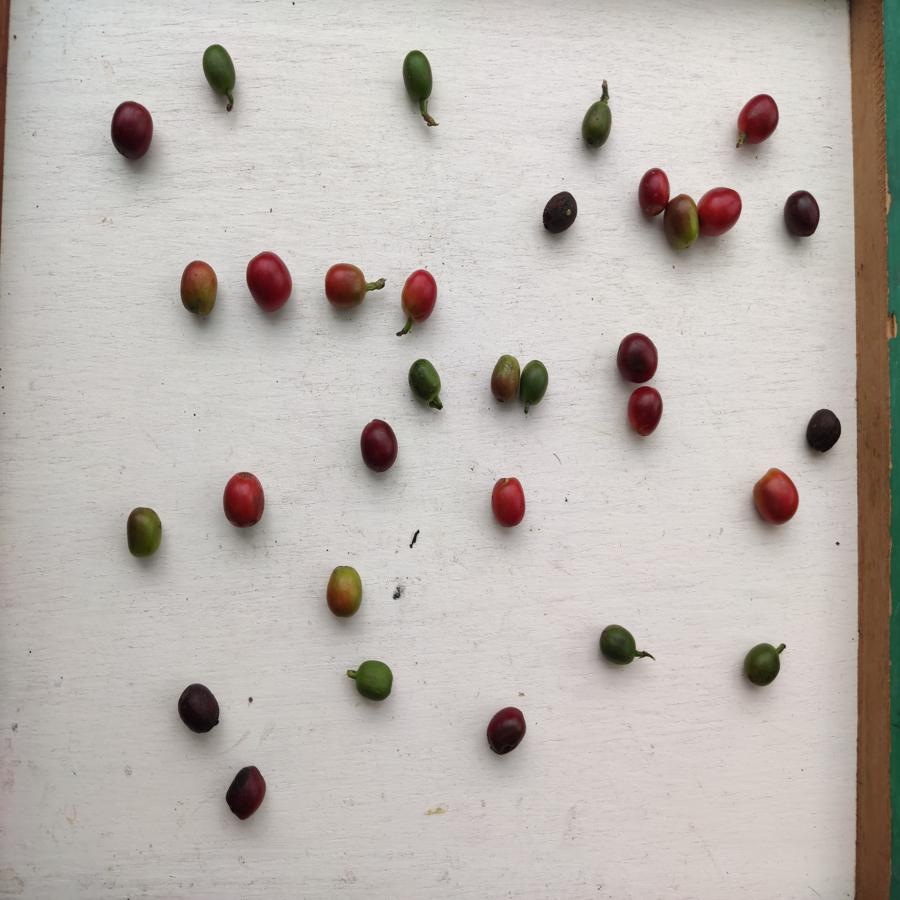Inmaduro: (199, 45, 245, 95), (402, 46, 438, 105), (350, 656, 396, 702), (577, 98, 617, 150), (594, 623, 642, 665), (742, 642, 783, 689), (406, 358, 445, 403), (517, 359, 551, 405)
Maduro: (750, 466, 802, 527), (245, 250, 293, 312), (222, 470, 266, 529), (398, 268, 442, 321), (698, 186, 742, 238), (325, 262, 372, 308), (491, 475, 529, 531)
Pinton: (662, 193, 700, 253), (326, 564, 365, 620), (180, 260, 216, 320), (125, 506, 163, 560), (489, 354, 519, 406)
Sobremaduro: (107, 102, 162, 161), (225, 762, 270, 823), (177, 680, 222, 738), (735, 92, 781, 146), (614, 332, 659, 383), (359, 417, 398, 473), (487, 708, 527, 757), (784, 187, 822, 237), (541, 189, 580, 237), (804, 408, 843, 453), (635, 166, 671, 214), (628, 387, 661, 435)
